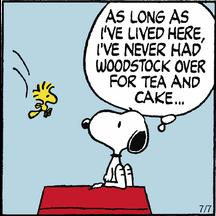snoopy: (80, 108, 148, 190)
